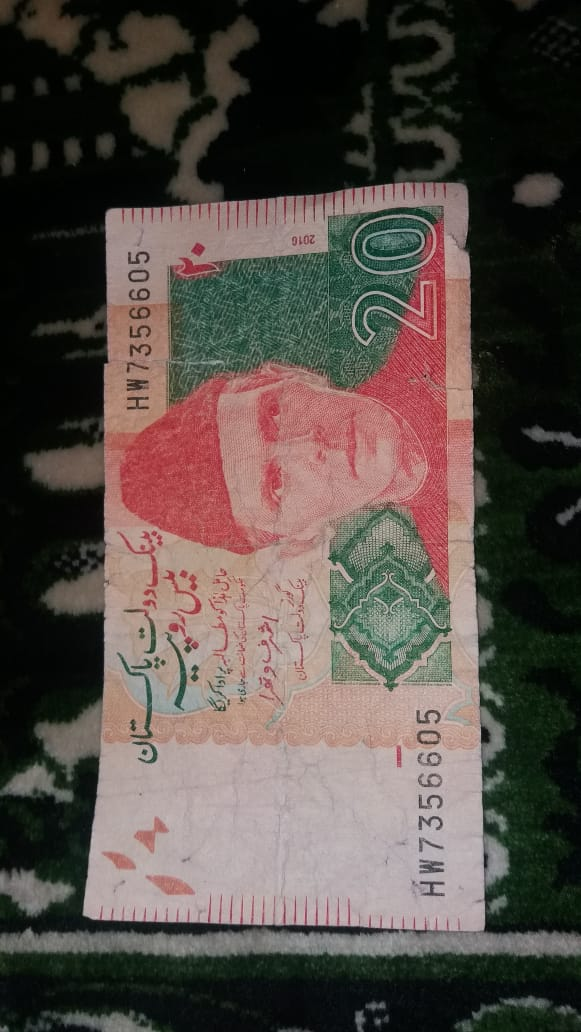20 rupee: (64, 178, 519, 957)
